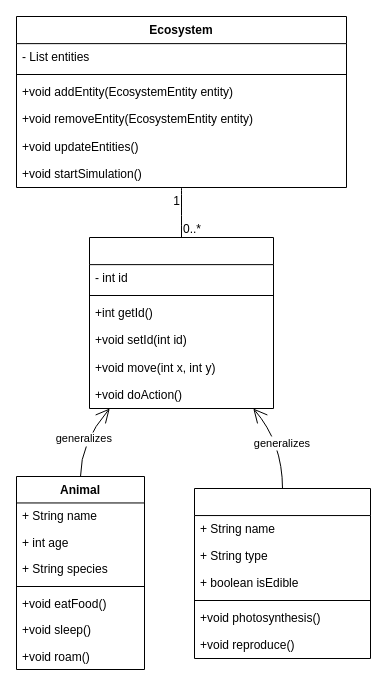
This 387x686 diagram has some shape labels left out. The shapes that lost their labels are listed below. From the top down, each one's box as (x1, y1, x2, y2) in pixels, then its label:
(88, 236, 274, 408): EcosystemEntity
(194, 488, 370, 658): Plant
